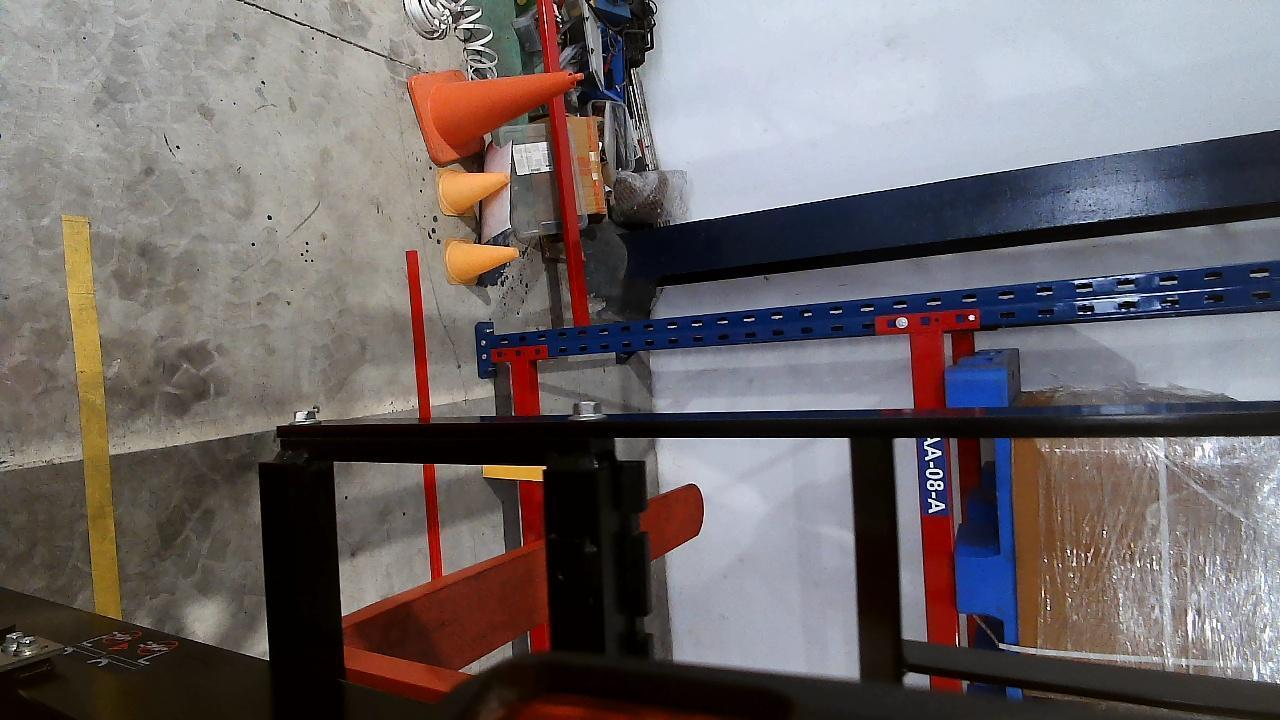red_line: (404, 249, 454, 577)
yellow_line: (58, 214, 120, 620)
